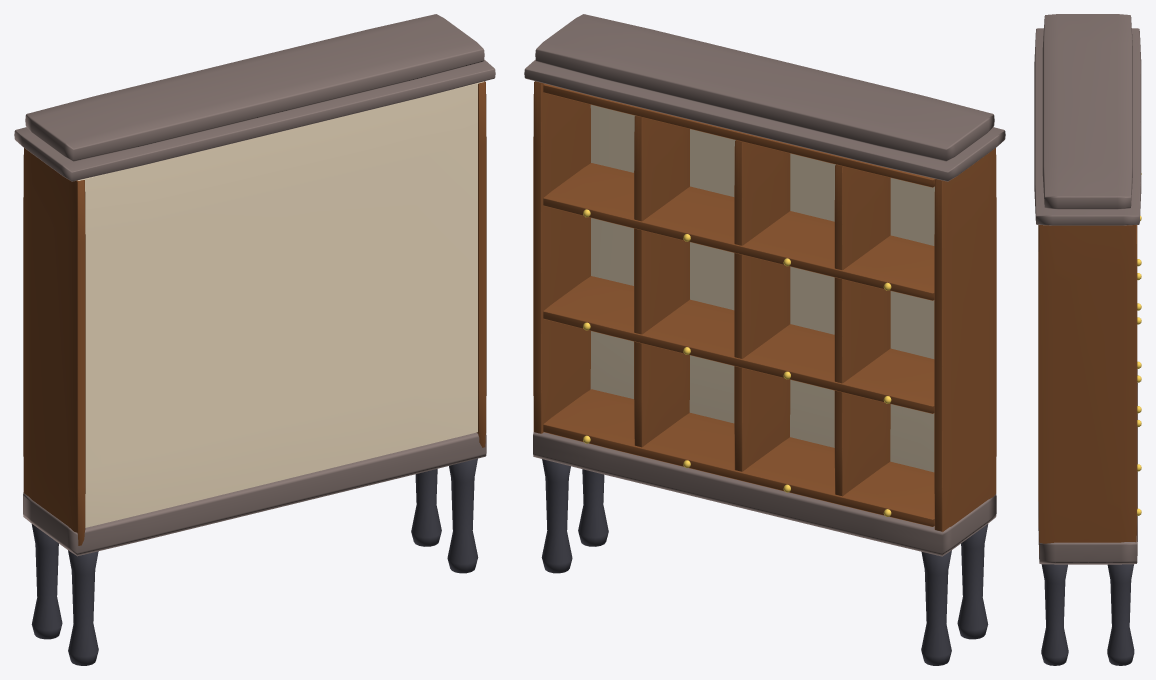
The model's file is MessyMemoryShelf.obj.
3 renders of one model, left to right at view 1: azimuth 30°, elevation 25°; view 2: azimuth 150°, elevation 25°; view 3: azimuth 270°, elevation 25°, orthographic. The views are drawn at different scales.
Visible parts, largest first — view 1: Back, Trim, Wood, Legs; view 2: Wood, Trim, Back, Legs; view 3: Wood, Trim, Legs, Knobs.
Boxes of the visible parts, x1,y1,x2,y2 form: Back: (78,81,483,527); Trim: (14,14,495,556); Wood: (23,81,486,545); Legs: (31,458,478,665); Wood: (533,81,996,531); Trim: (524,14,1005,556); Back: (590,104,934,472); Legs: (541,459,988,665); Wood: (1038,225,1137,553); Trim: (1034,14,1141,564); Legs: (1041,564,1134,665); Knobs: (1137,173,1141,515).
Size of the model in its own units: 10.85 by 12.7 by 2.61.
